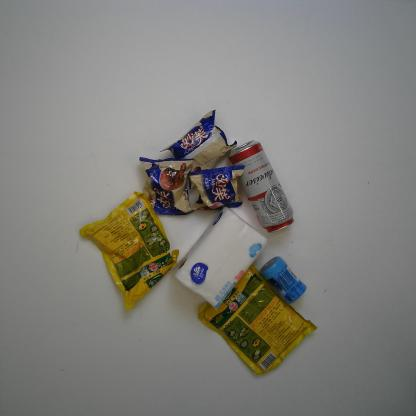Alcohol: (228, 140, 295, 233)
Dessert: (159, 110, 238, 176), (139, 156, 195, 216), (188, 164, 245, 212)
Gum: (258, 256, 306, 304)
Seasoner: (197, 263, 319, 376), (78, 191, 180, 313)
Tissue: (170, 206, 272, 311)
